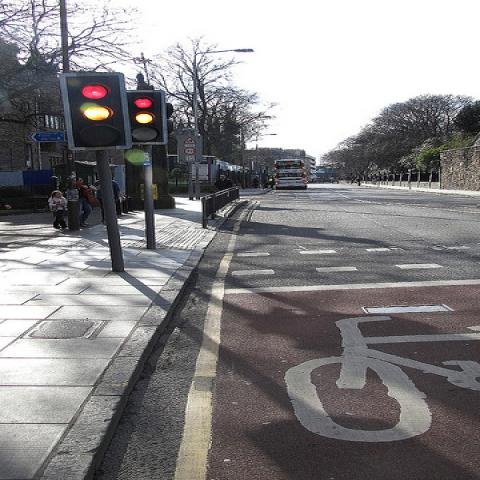bus: (275, 160, 305, 188)
car: (275, 176, 307, 190)
